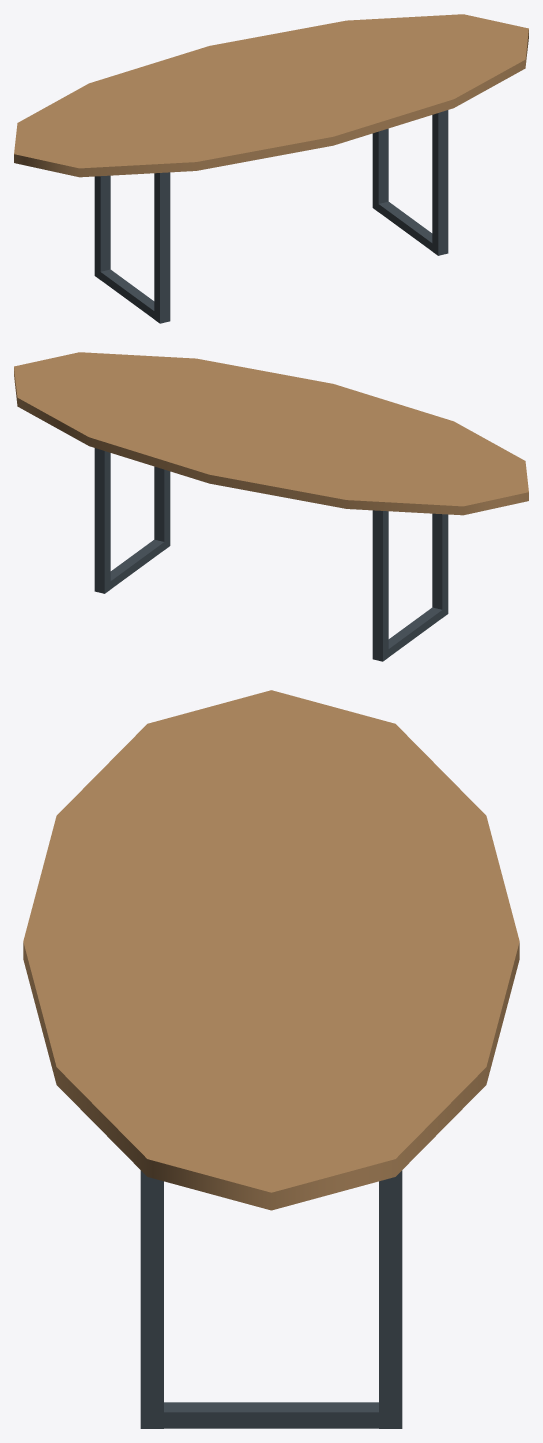
File: meetingTable-5.glb
The picture shows the model from 3 angles, top to bottom: view 1: azimuth 30°, elevation 25°; view 2: azimuth 150°, elevation 25°; view 3: azimuth 270°, elevation 25°; orthographic projection. The views are drawn at different scales.
Parts seen in each view (by area): view 1: meetingTable:5:editor; view 2: meetingTable:5:editor; view 3: meetingTable:5:editor.
Boxes of the visible parts, x1=… form: meetingTable:5:editor: x1=14, y1=14, x2=528, y2=323; meetingTable:5:editor: x1=14, y1=352, x2=528, y2=661; meetingTable:5:editor: x1=23, y1=690, x2=519, y2=1428.
Size of the model in its own units: 2.3 by 0.74 by 0.96.
